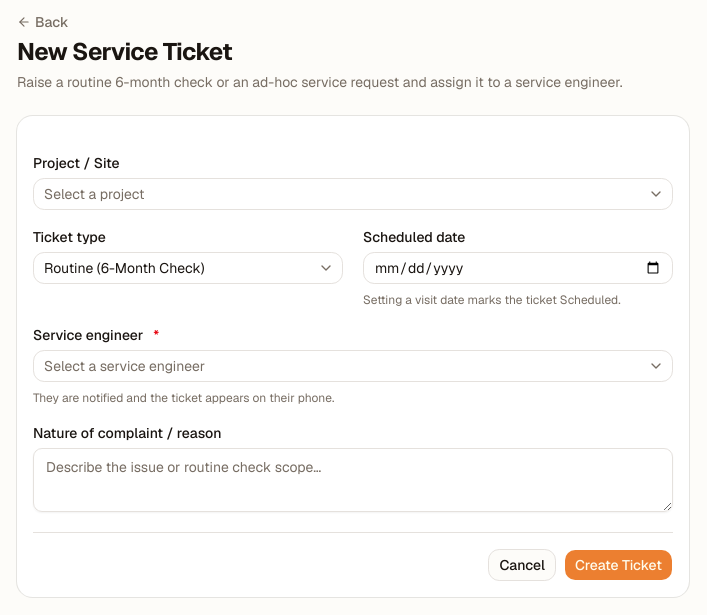
Test: the project picker on the new-ticket page › says what each sale is — a capacity or a custom plan's details — and which are closed
This screenshot has width=707, height=615.
Click the dropdown named "project / site". click: [94, 194]
box: [33, 178, 673, 210]
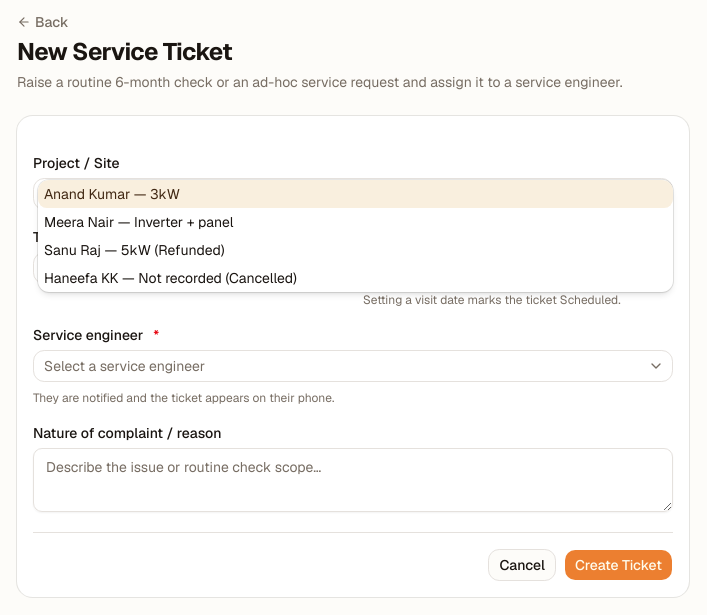
Expected: the option "Anand Kumar — 3kW" is shown, [38, 180, 673, 208]
Expected: the option "Meera Nair — Inverter + panel" is shown, [44, 213, 234, 231]
Expected: the option "Sanu Raj — 5kW (Refunded)" is shown, [44, 241, 225, 259]
